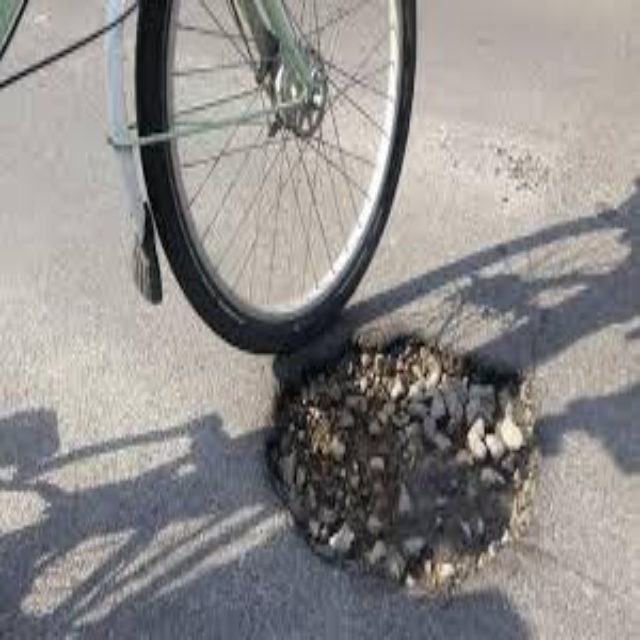pothole: (265, 324, 540, 594)
